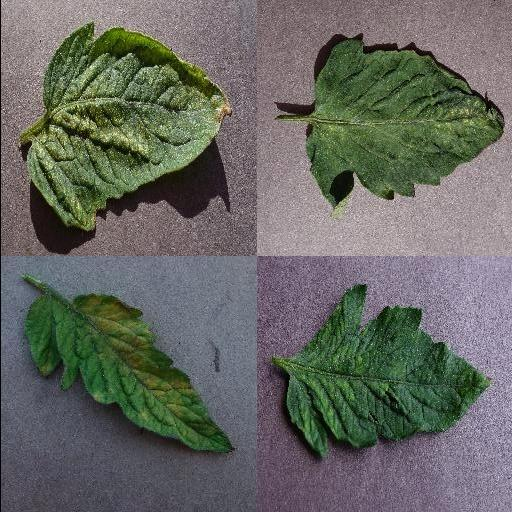Leaf Mold: (24, 295, 234, 452)
Mosaic Virus: (287, 286, 493, 458)
Spider Mites: (26, 22, 232, 230), (304, 38, 504, 214)
